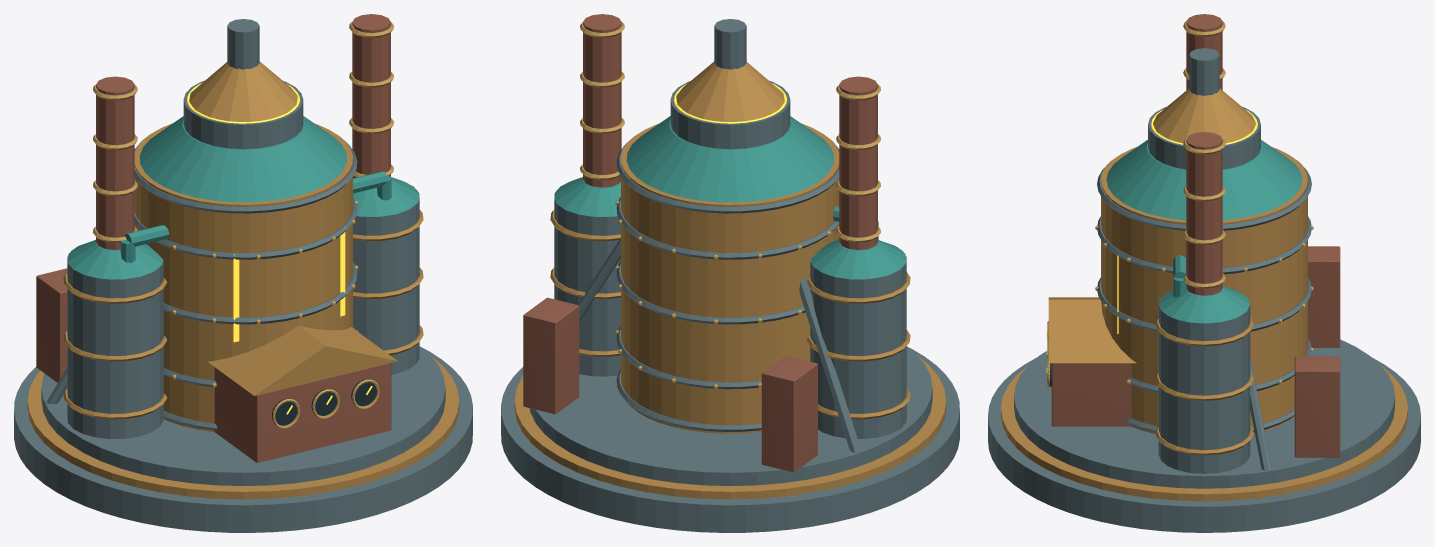
File: world-druckwerk.glb
3 renders of one model, left to right at view 1: azimuth 30°, elevation 25°; view 2: azimuth 150°, elevation 25°; view 3: azimuth 270°, elevation 25°, orthographic. The views are drawn at different scales.
Visible parts, largest first — view 1: world-druckwerk / Abyssal iron, world-druckwerk / Pressureworks burnished bronze, world-druckwerk / Hanseatic red brick, world-druckwerk / Copper verdigris, world-druckwerk / Weathered maritime brass, world-druckwerk / Sulphur amber light, world-druckwerk / Deep insets; view 2: world-druckwerk / Abyssal iron, world-druckwerk / Pressureworks burnished bronze, world-druckwerk / Hanseatic red brick, world-druckwerk / Copper verdigris, world-druckwerk / Weathered maritime brass; view 3: world-druckwerk / Abyssal iron, world-druckwerk / Pressureworks burnished bronze, world-druckwerk / Hanseatic red brick, world-druckwerk / Copper verdigris, world-druckwerk / Weathered maritime brass.
Boxes of the visible parts, box(x1,y1,x2,y2) form: world-druckwerk / Abyssal iron: box(14, 19, 472, 532); world-druckwerk / Pressureworks burnished bronze: box(27, 61, 459, 499); world-druckwerk / Hanseatic red brick: box(36, 14, 391, 462); world-druckwerk / Copper verdigris: box(67, 116, 419, 279); world-druckwerk / Weathered maritime brass: box(93, 21, 393, 428); world-druckwerk / Sulphur amber light: box(187, 83, 372, 414); world-druckwerk / Deep insets: box(272, 379, 376, 425); world-druckwerk / Abyssal iron: box(501, 19, 959, 532); world-druckwerk / Pressureworks burnished bronze: box(514, 61, 946, 499); world-druckwerk / Hanseatic red brick: box(523, 14, 877, 472); world-druckwerk / Copper verdigris: box(554, 116, 906, 279); world-druckwerk / Weathered maritime brass: box(580, 21, 880, 388); world-druckwerk / Abyssal iron: box(988, 48, 1420, 532); world-druckwerk / Pressureworks burnished bronze: box(1001, 88, 1407, 501); world-druckwerk / Hanseatic red brick: box(1051, 14, 1340, 457); world-druckwerk / Copper verdigris: box(1106, 140, 1302, 323); world-druckwerk / Weathered maritime brass: box(1047, 20, 1313, 387).
Bounding box in the file's own units: 18 × 17.75 × 18.
